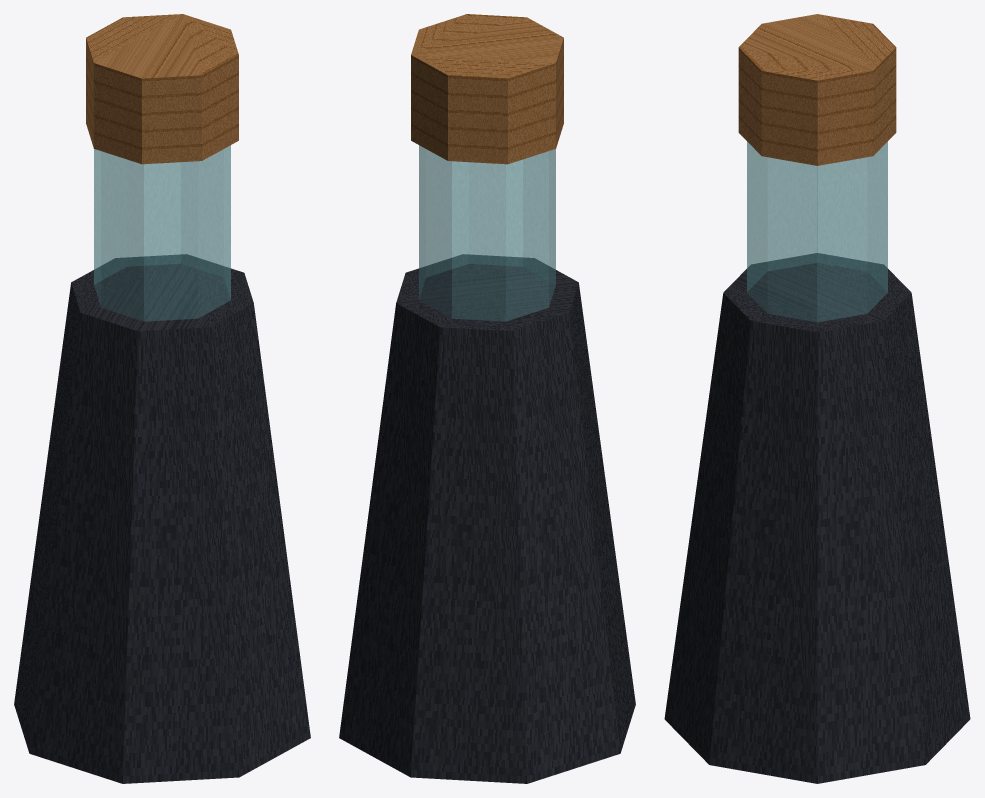
File: potion_7.glb
3 views of the same model, side by side, from view 1: azimuth 30°, elevation 25°; view 2: azimuth 150°, elevation 25°; view 3: azimuth 270°, elevation 25° (orthographic).
Visible parts, largest first — view 1: bottle, neck, cork; view 2: bottle, neck, cork; view 3: bottle, neck, cork.
Part boxes in pixels (left/top/right/bottom): bottle: left=14, top=254, right=310, bottom=783; neck: left=94, top=145, right=230, bottom=321; cork: left=86, top=14, right=238, bottom=164; bottle: left=339, top=254, right=635, bottom=783; neck: left=419, top=145, right=555, bottom=321; cork: left=411, top=14, right=563, bottom=164; bottle: left=664, top=253, right=970, bottom=783; neck: left=747, top=141, right=887, bottom=322; cork: left=738, top=14, right=896, bottom=165.
Bounding box in the file's own units: 0.26 × 0.63 × 0.26.
Materials: 2 (2 with a texture image).
